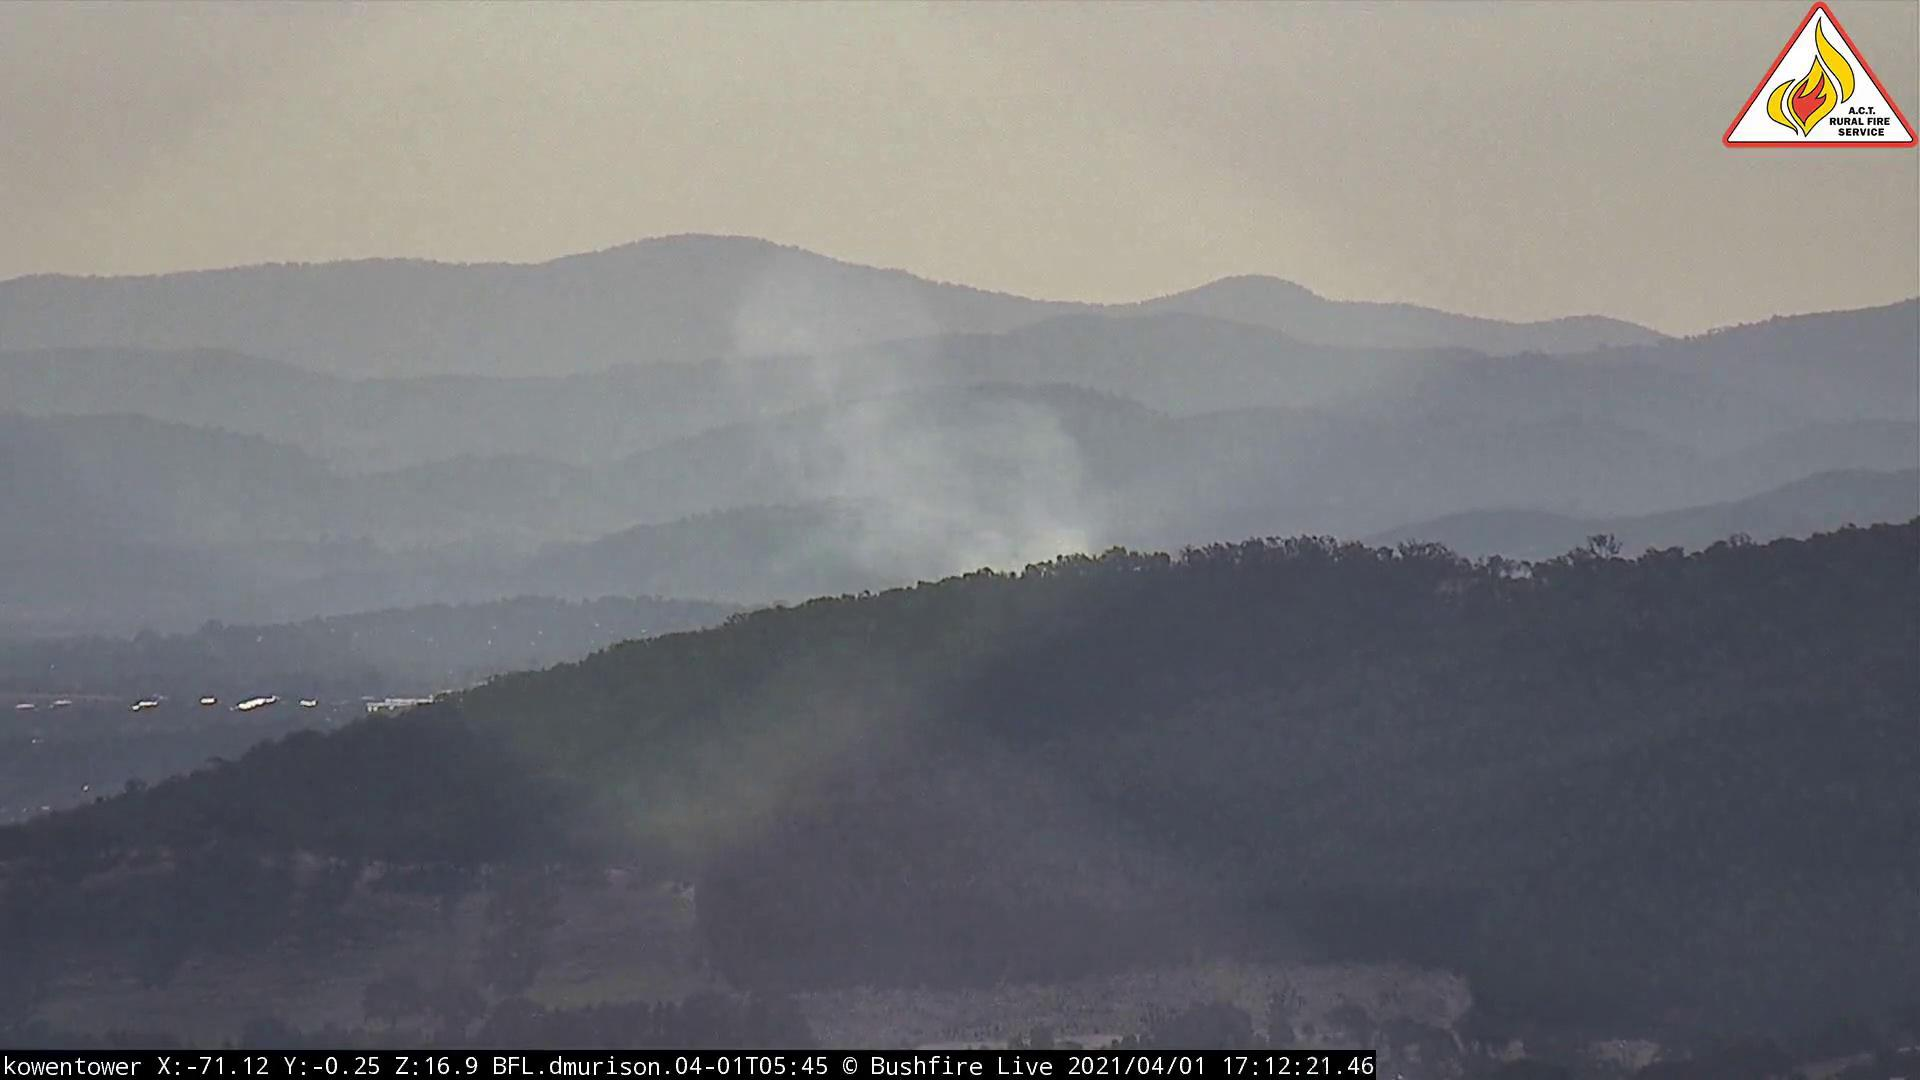instance_salient_object: (704, 261, 1133, 616)
